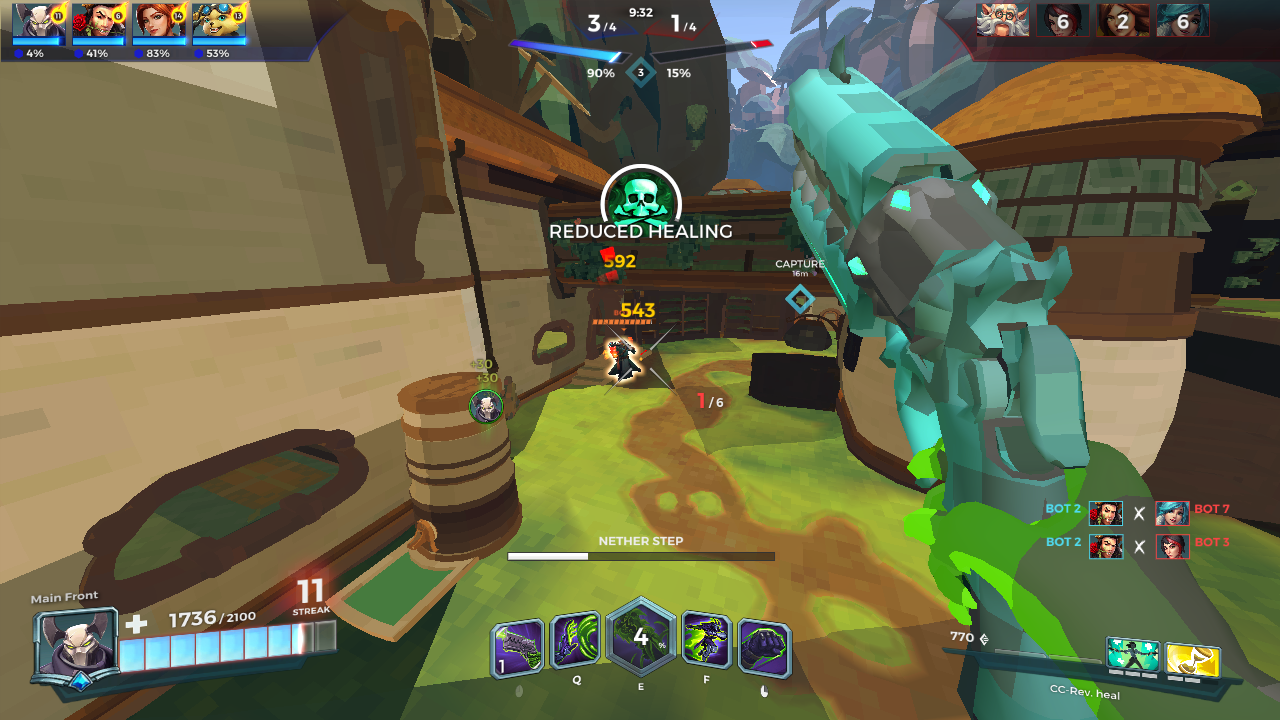model: (602, 336, 642, 388)
